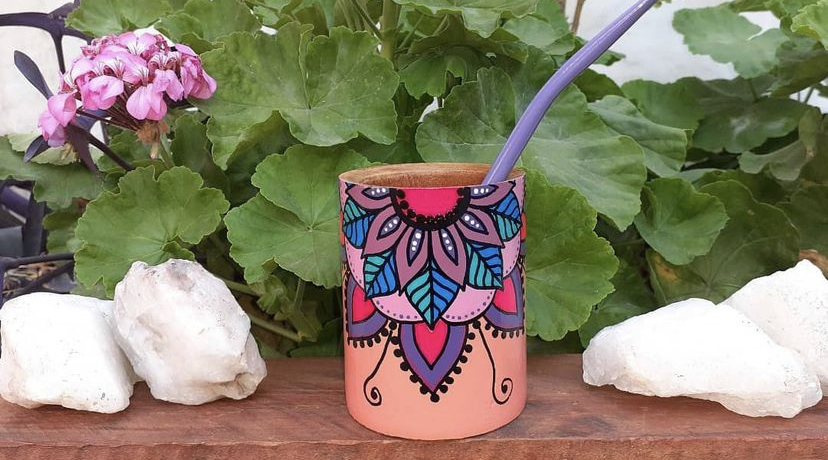madera: (329, 154, 542, 439)
mate: (338, 1, 679, 450)
